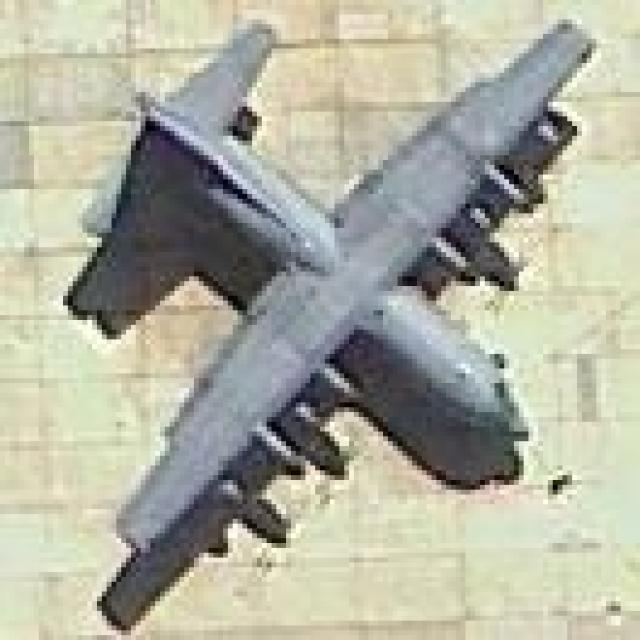C-130_TopDown: (59, 10, 600, 634)
